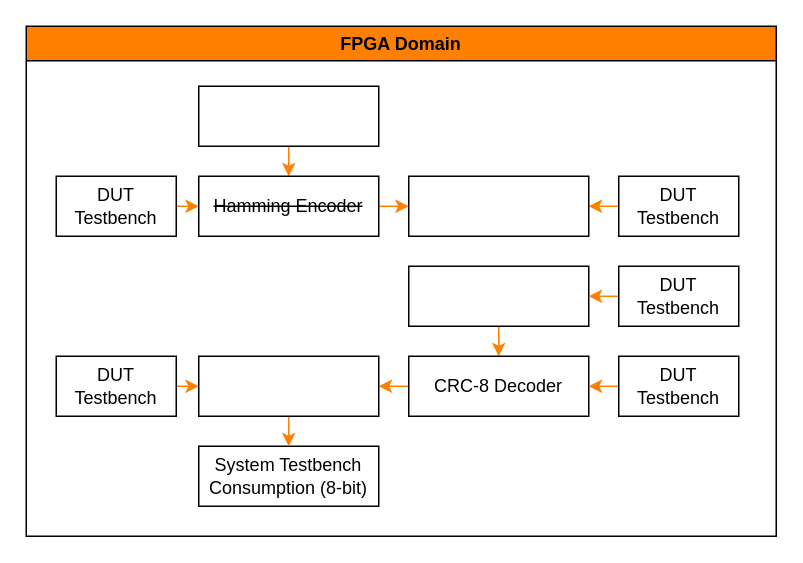
Image size: 803x563. Some labels were removed from this diagram. The centre of each missing label's shape, as x and y in pixels:
"Bit-Error Source (Channel Model)" belongs at [498,295].
"CRC-8 Encoder" belongs at [498,205].
"Hamming Decoder" belongs at [288,385].
"System Testbench Generation (8-bit)" belongs at [288,115].
